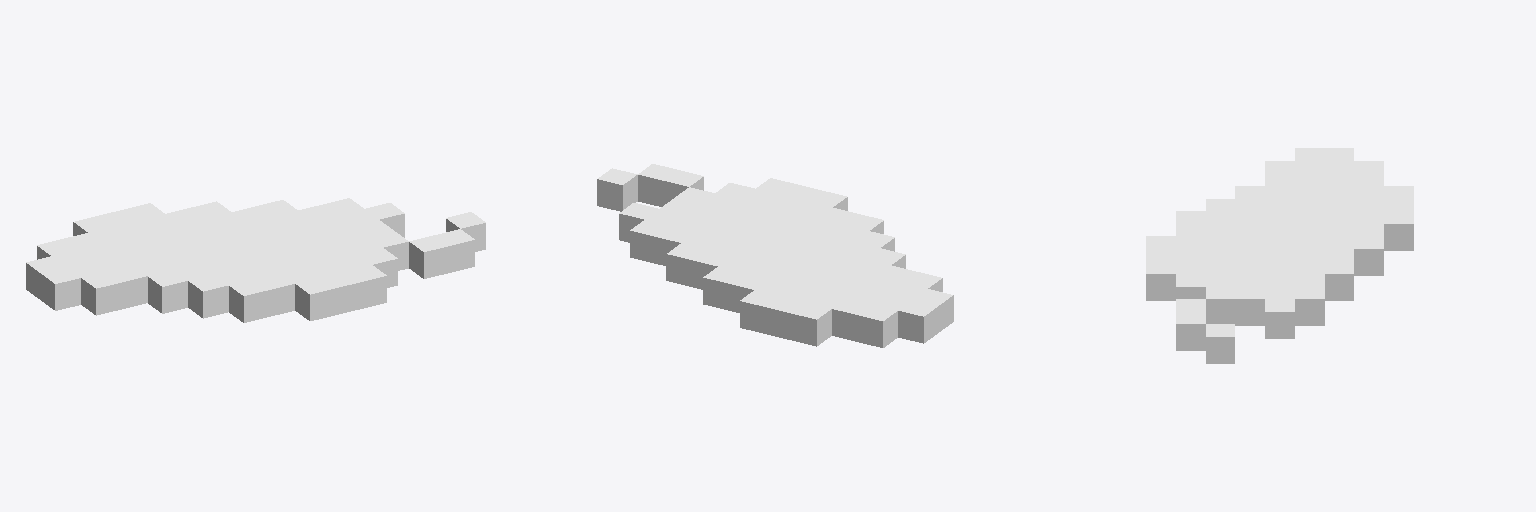
The model's file is hoja4.obj.
3 renders of one model, left to right at view 1: azimuth 30°, elevation 25°; view 2: azimuth 150°, elevation 25°; view 3: azimuth 270°, elevation 25°, orthographic.
Parts seen in each view (by area): view 1: object 1; view 2: object 1; view 3: object 1.
Boxes of the visible parts, box(x1,y1,x2,y2) form: object 1: box(26, 198, 485, 322); object 1: box(597, 164, 953, 347); object 1: box(1146, 148, 1413, 363).
Bounding box in the file's own units: 1.5 × 0.1 × 0.9.